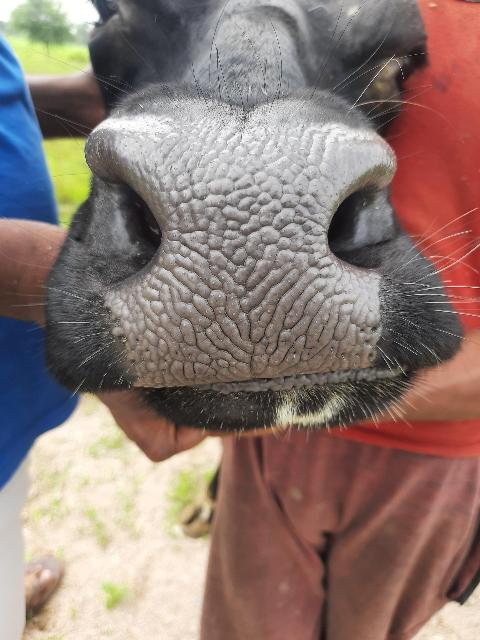Muzzle: (112, 134, 366, 358)
